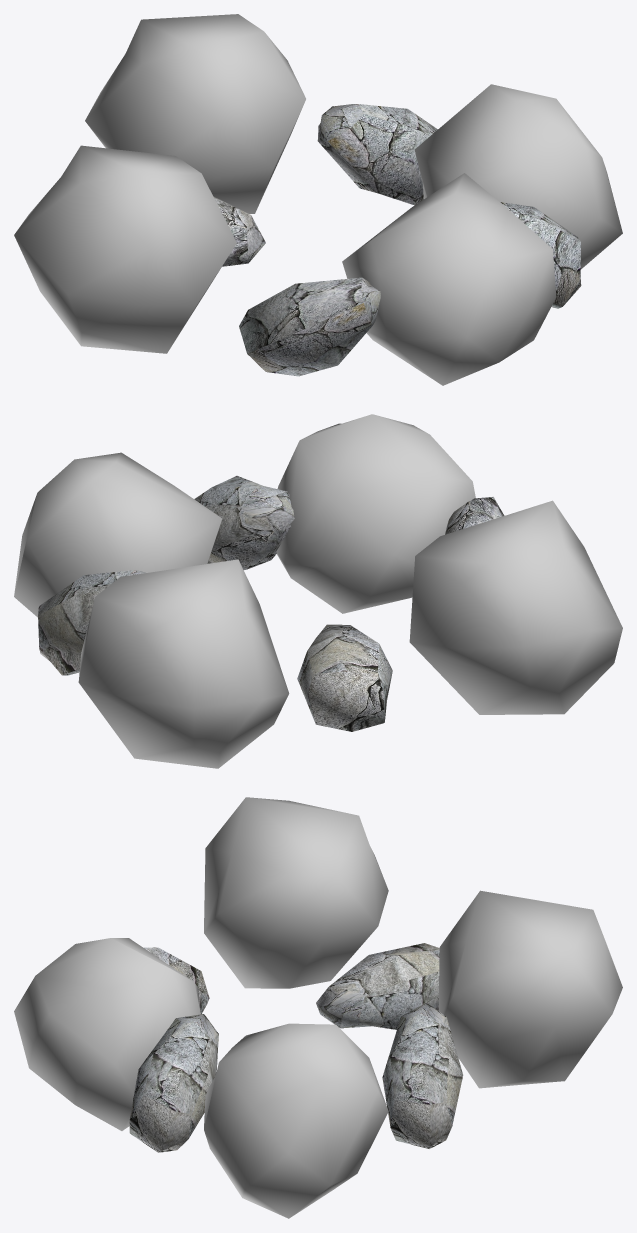
The model's file is fire_rocks.obj.
The picture shows the model from 3 angles, top to bottom: view 1: azimuth 30°, elevation 25°; view 2: azimuth 150°, elevation 25°; view 3: azimuth 270°, elevation 25°; orthographic projection. The views are drawn at different scales.
Visible parts, largest first — view 1: Stone_F_1_LOD04, Stone_F_1_LOD02, Stone_F_1_LOD3, Stone_F_1_LOD01, Stone_F_3_LOD02, Stone_F_3_LOD3, Stone_F_3_LOD01, Stone_F_3_LOD04; view 2: Stone_F_1_LOD04, Stone_F_1_LOD3, Stone_F_1_LOD02, Stone_F_1_LOD01, Stone_F_3_LOD04, Stone_F_3_LOD01, Stone_F_3_LOD3, Stone_F_3_LOD02; view 3: Stone_F_1_LOD04, Stone_F_1_LOD3, Stone_F_1_LOD01, Stone_F_1_LOD02, Stone_F_3_LOD3, Stone_F_3_LOD01, Stone_F_3_LOD04, Stone_F_3_LOD02.
Part boxes in pixels (x1,y1,x2,y2): Stone_F_1_LOD04: (14, 145, 236, 353); Stone_F_1_LOD02: (342, 173, 556, 385); Stone_F_1_LOD3: (85, 14, 305, 213); Stone_F_1_LOD01: (414, 84, 622, 269); Stone_F_3_LOD02: (239, 277, 380, 376); Stone_F_3_LOD3: (317, 104, 437, 205); Stone_F_3_LOD01: (500, 202, 581, 308); Stone_F_3_LOD04: (213, 196, 265, 266); Stone_F_1_LOD04: (409, 500, 622, 714); Stone_F_1_LOD3: (78, 559, 289, 768); Stone_F_1_LOD02: (276, 414, 475, 613); Stone_F_1_LOD01: (14, 452, 222, 617); Stone_F_3_LOD04: (297, 624, 392, 731); Stone_F_3_LOD01: (194, 476, 294, 569); Stone_F_3_LOD3: (38, 570, 145, 675); Stone_F_3_LOD02: (445, 496, 504, 534); Stone_F_1_LOD04: (204, 797, 388, 988); Stone_F_1_LOD3: (438, 890, 622, 1088); Stone_F_1_LOD01: (204, 1023, 388, 1218); Stone_F_1_LOD02: (14, 938, 200, 1130); Stone_F_3_LOD3: (382, 1003, 463, 1148); Stone_F_3_LOD01: (129, 1014, 218, 1152); Stone_F_3_LOD04: (316, 943, 439, 1029); Stone_F_3_LOD02: (143, 947, 209, 1014).
Bounding box in the file's own units: 21.82 × 8.35 × 21.26.
